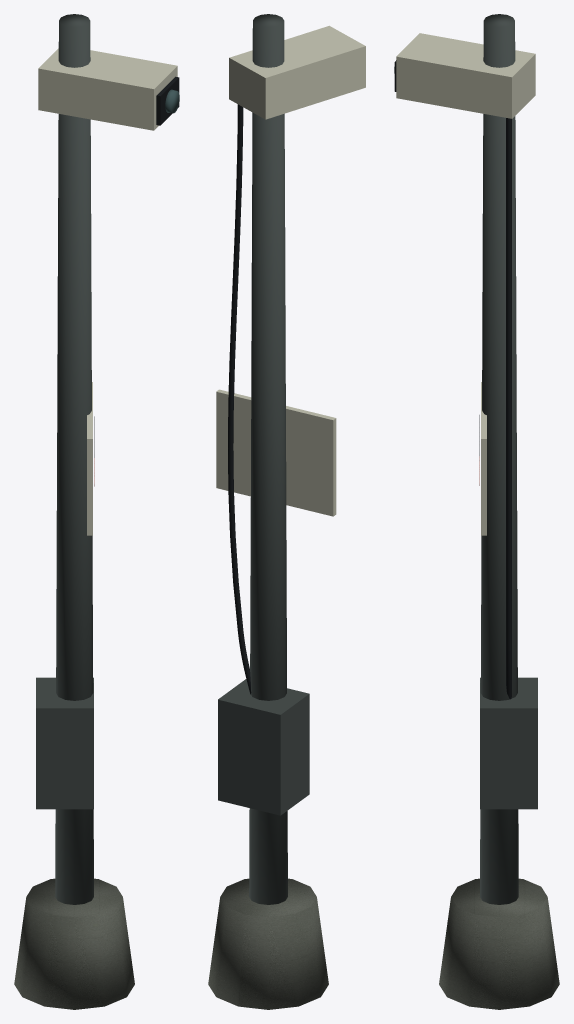
Rendered from cctv-mast.glb.
3 renders of one model, left to right at view 1: azimuth 90°, elevation 25°; view 2: azimuth 150°, elevation 25°; view 3: azimuth 270°, elevation 25°, orthographic.
Parts seen in each view (by area): view 1: Galvanised surveillance pole, Concrete camera footing, Weatherproof camera hood, Control cabinet, Surveillance notice, Dark lens plate; view 2: Galvanised surveillance pole, Concrete camera footing, Control cabinet, Weatherproof camera hood, Surveillance notice, Camera cable; view 3: Galvanised surveillance pole, Concrete camera footing, Weatherproof camera hood, Control cabinet, Camera cable, Surveillance notice.
Part boxes in pixels (box(x1,y1,x2,y2)): Galvanised surveillance pole: box(55, 14, 93, 904); Concrete camera footing: box(14, 878, 134, 1009); Weatherproof camera hood: box(38, 48, 177, 130); Control cabinet: box(36, 677, 93, 809); Surveillance notice: box(87, 382, 92, 535); Dark lens plate: box(156, 76, 179, 125); Galvanised surveillance pole: box(249, 14, 287, 904); Concrete camera footing: box(208, 878, 328, 1009); Control cabinet: box(218, 679, 309, 815); Weatherproof camera hood: box(229, 25, 365, 119); Surveillance notice: box(216, 389, 336, 516); Camera cable: box(228, 104, 251, 694); Galvanised surveillance pole: box(480, 14, 518, 904); Concrete camera footing: box(439, 878, 559, 1009); Weatherproof camera hood: box(396, 33, 535, 118); Control cabinet: box(480, 677, 537, 809); Camera cable: box(506, 118, 511, 699); Surveillance notice: box(481, 382, 486, 535).
Size of the model in its own units: 0.56 by 4.4 by 0.6851.
Materials: 6 (1 with a texture image).
